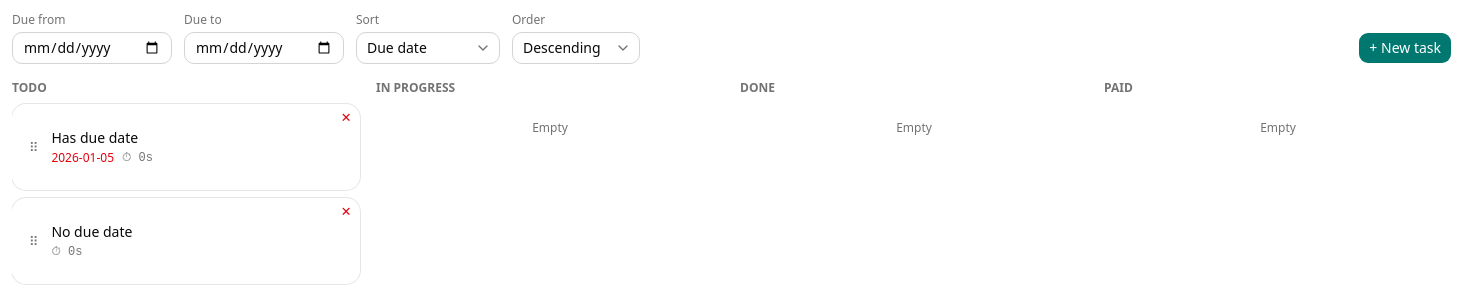
Test: TasksTab › hides tasks with no due date once a due date filter is active
In the date field labelled "Due from": (92, 48) x1=12 y1=32 x2=172 y2=64, type "2026-01-01"
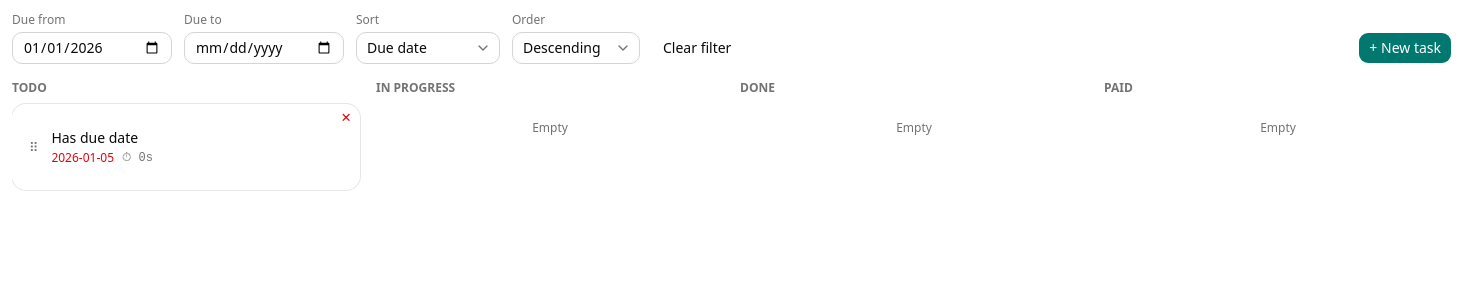
Expected: the text "Has due date" is shown, x1=51 y1=128 x2=138 y2=147
Expected: the text "No due date" is gone
